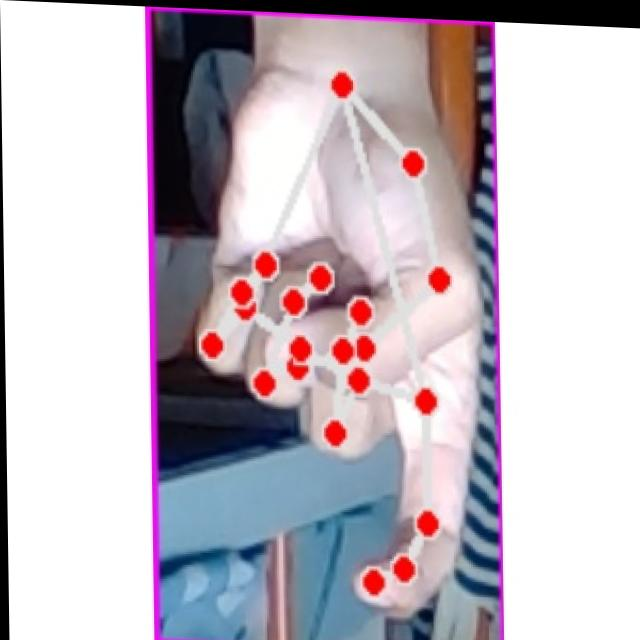X: (181, 60, 485, 631)
